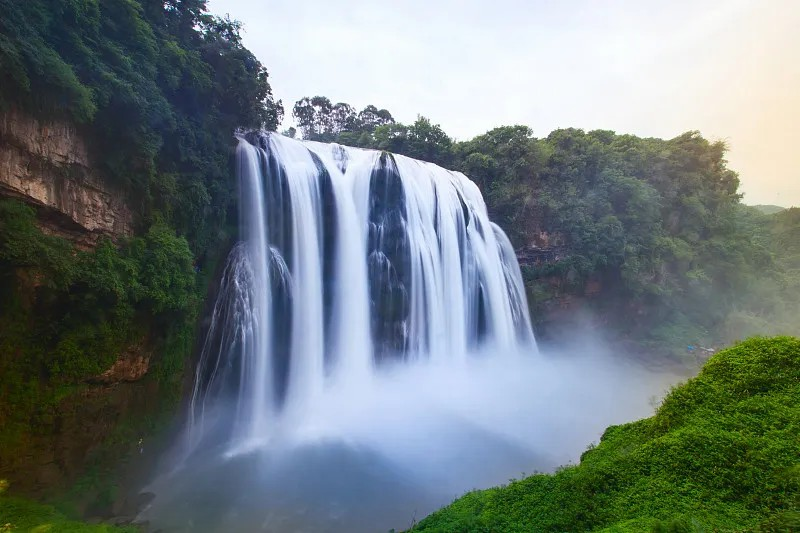Huangguoshu: (196, 128, 535, 432)
